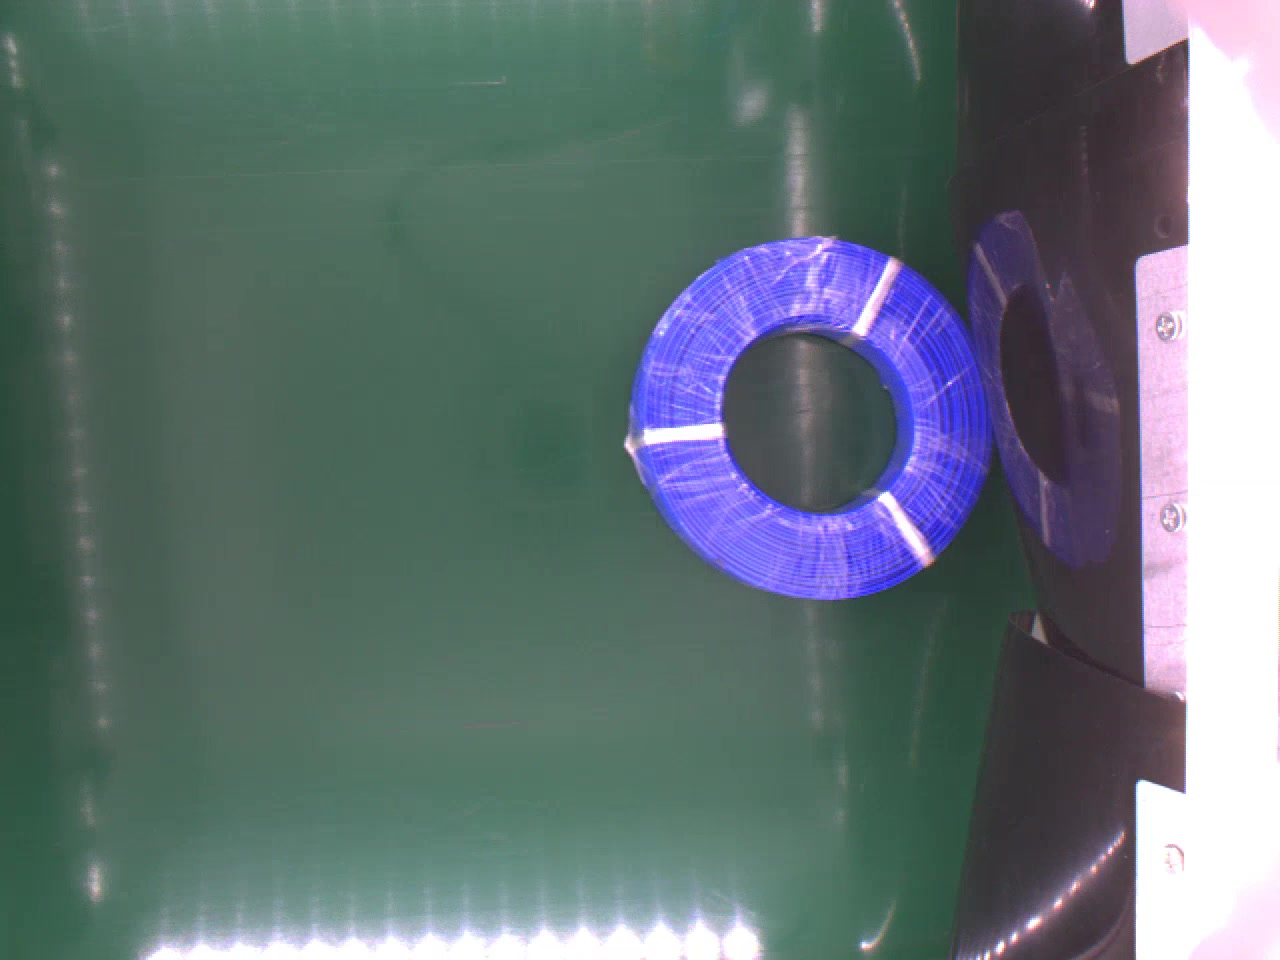blue: (625, 233, 992, 597)
